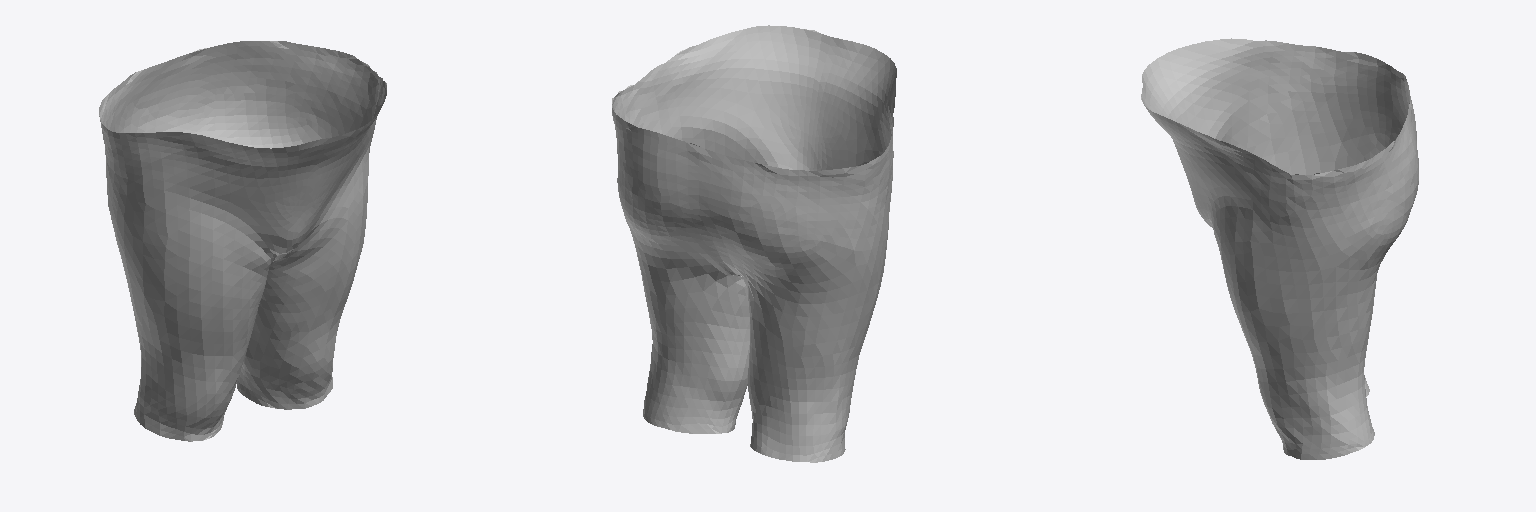
Rendered from short-pant_16.obj.
The picture shows the model from 3 angles: view 1: azimuth 30°, elevation 25°; view 2: azimuth 150°, elevation 25°; view 3: azimuth 270°, elevation 25°; orthographic projection.
Bounding box in the file's own units: 0.4771 × 0.5979 × 0.4394.